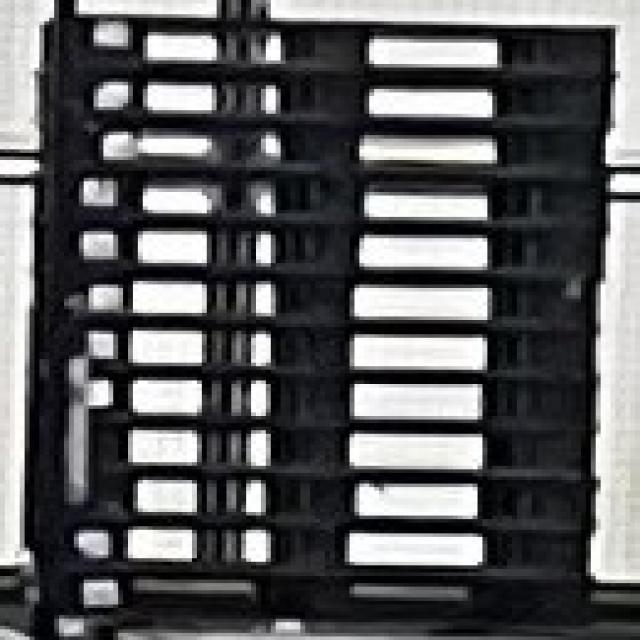igps: (29, 7, 627, 77), (20, 366, 609, 433), (17, 422, 609, 484), (20, 315, 611, 377), (26, 222, 615, 280), (25, 171, 621, 227), (22, 274, 615, 329), (23, 123, 622, 177), (15, 521, 602, 576), (16, 477, 608, 528), (27, 74, 628, 124), (22, 573, 609, 620)
